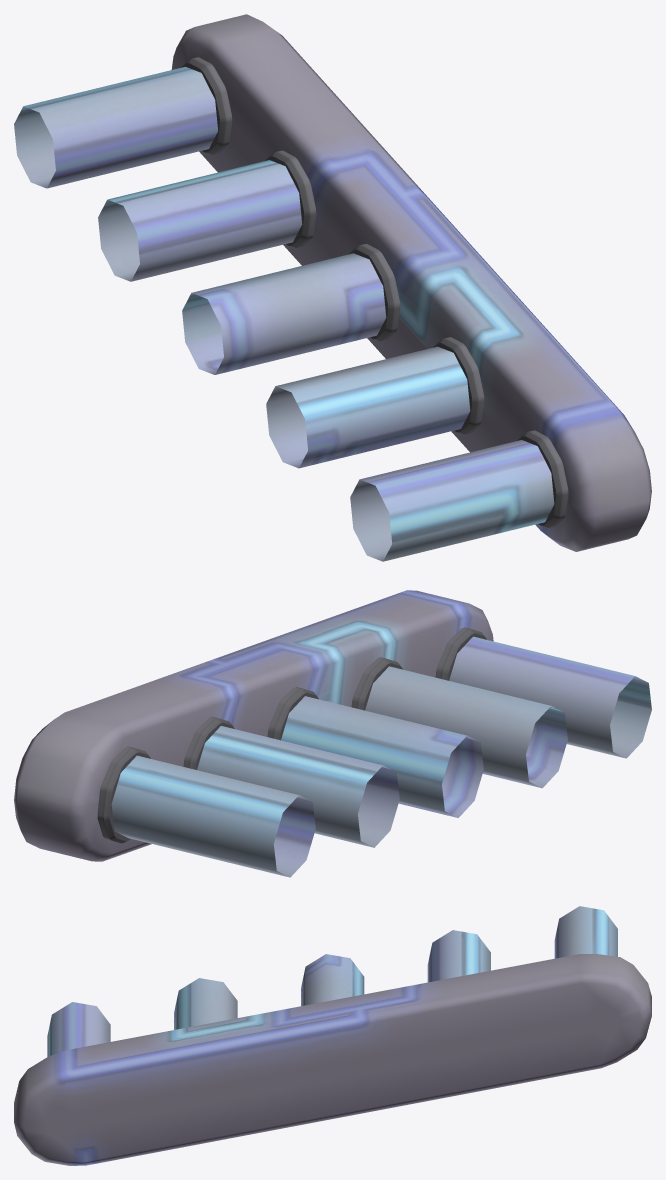
The model's file is Space_CloudRight.fbx.
The picture shows the model from 3 angles, top to bottom: view 1: azimuth 30°, elevation 25°; view 2: azimuth 150°, elevation 25°; view 3: azimuth 270°, elevation 25°; orthographic projection. The views are drawn at different scales.
Visible parts, largest first — view 1: polySurface252; view 2: polySurface252; view 3: polySurface252.
Part boxes in pixels (x1,y1,x2,y2): polySurface252: [14, 14, 651, 561]; polySurface252: [14, 590, 651, 877]; polySurface252: [14, 906, 651, 1165].
Size of the model in its own units: 100 by 100 by 300.
